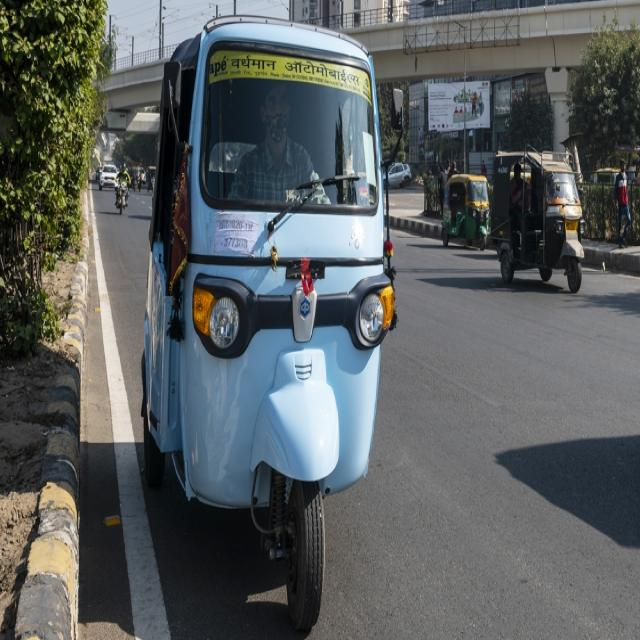autorickshaw: (142, 18, 397, 635), (490, 149, 585, 291), (442, 173, 490, 249)
car: (389, 162, 412, 187), (99, 165, 118, 188)
